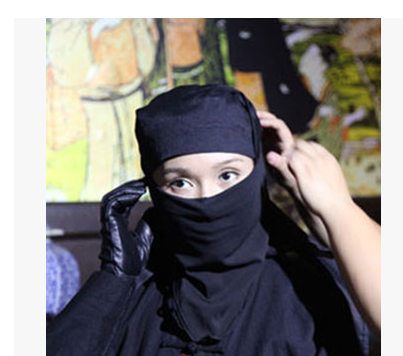face_mask: (154, 136, 259, 247)
